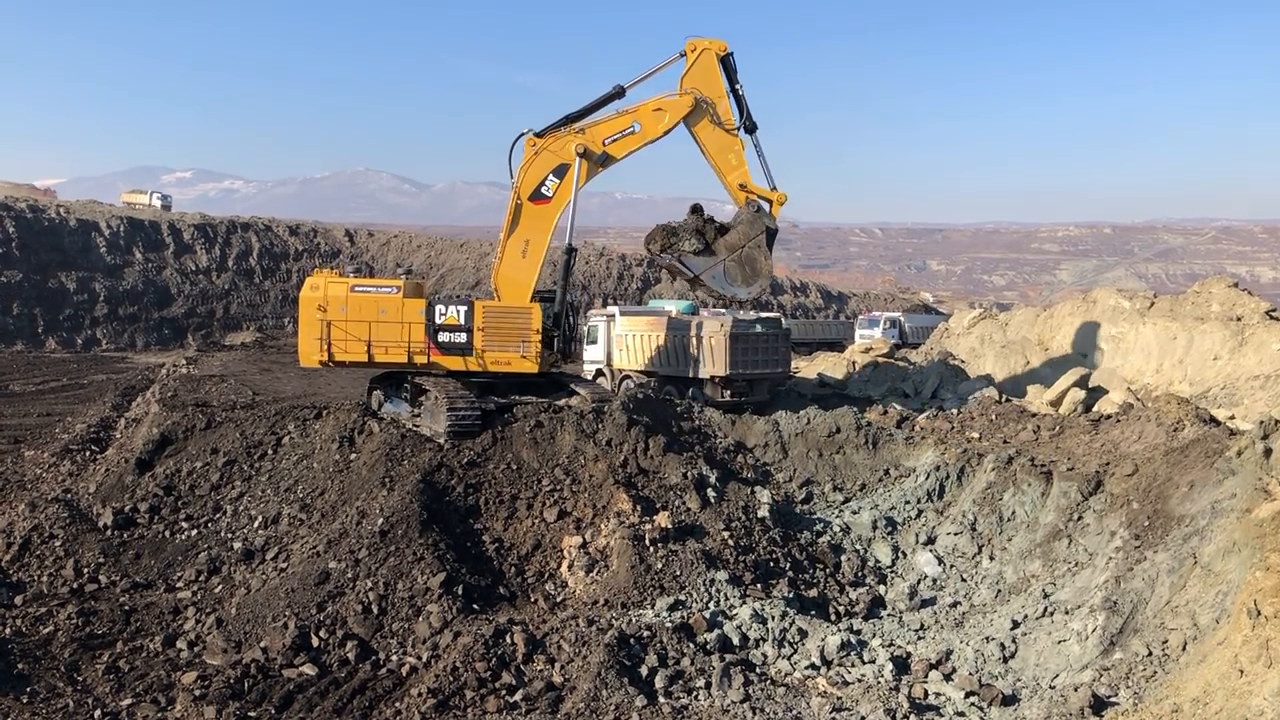full: (644, 204, 790, 306)
